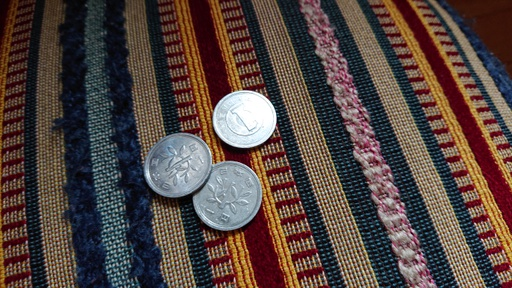1yen: (193, 161, 261, 231), (143, 133, 212, 199), (211, 90, 276, 149)
